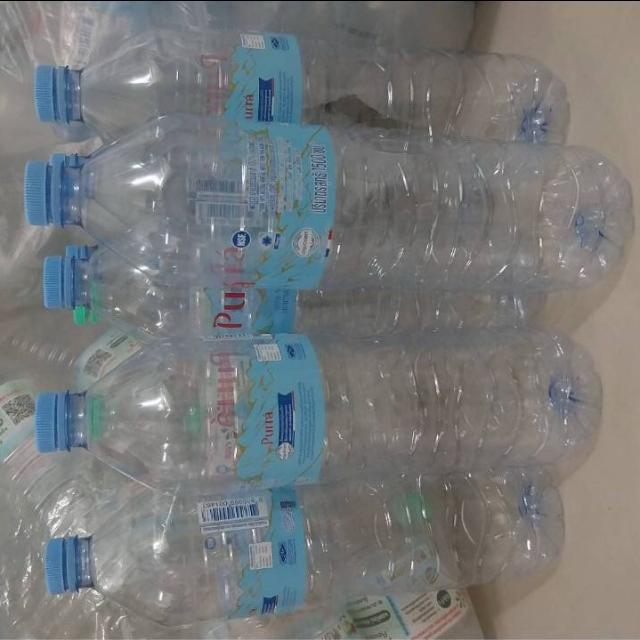PET Bottle: (0, 25, 630, 176), (0, 145, 640, 286), (0, 334, 640, 474), (0, 474, 610, 618), (0, 242, 598, 335)
